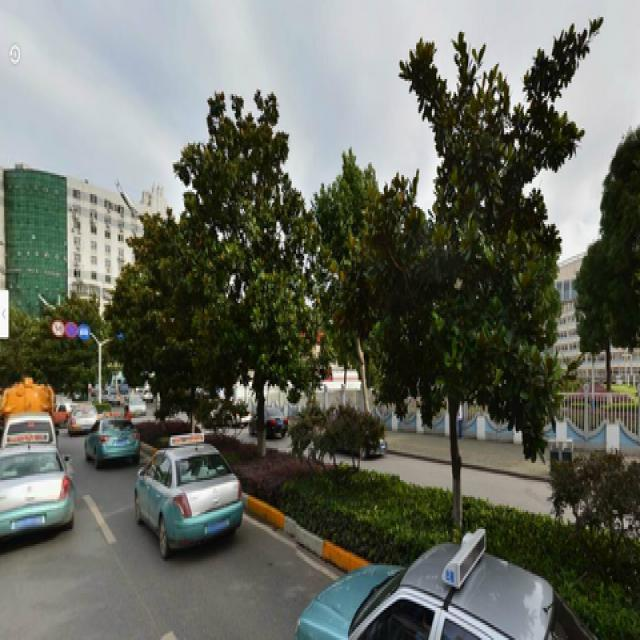magn: (396, 47, 577, 520)
